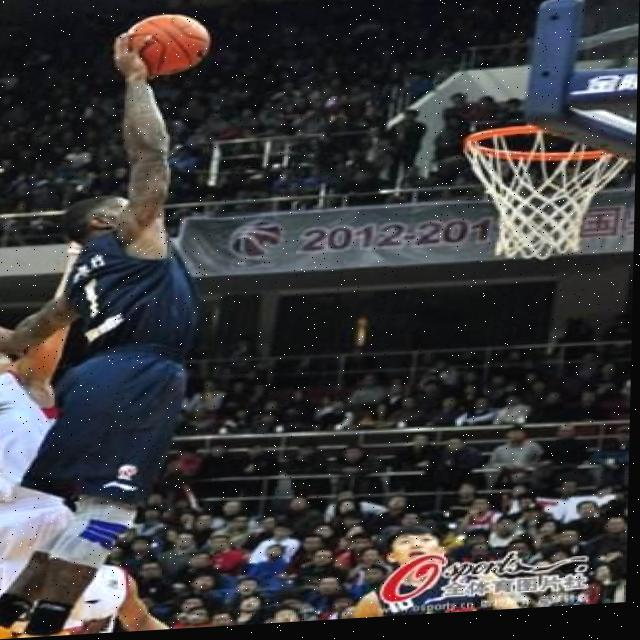basketball: (125, 13, 212, 78)
hoop: (461, 119, 627, 263)
